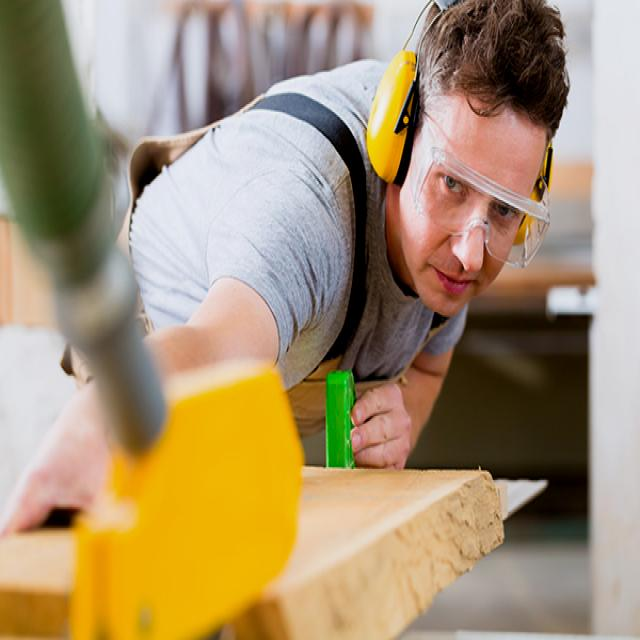Ear Muffs: (359, 43, 422, 194), (511, 137, 556, 245)
Safety Glasses: (410, 104, 560, 283)
